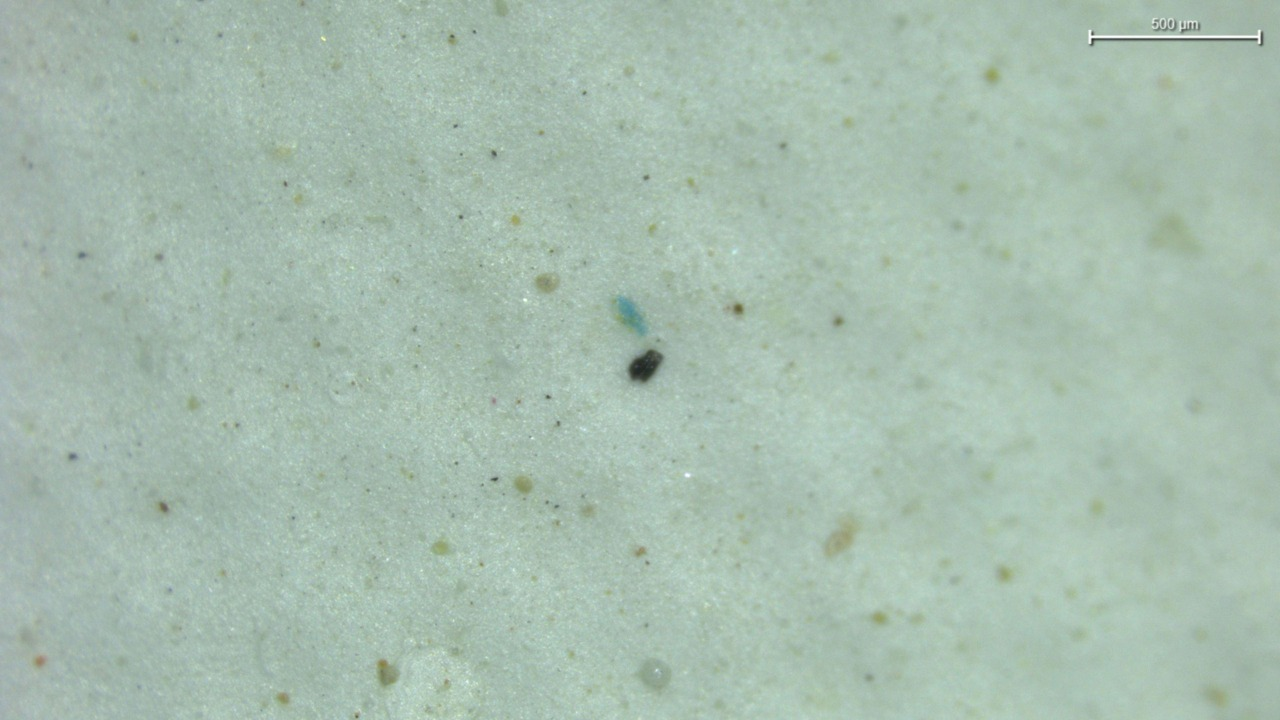microplastic_fragment: (616, 296, 647, 336), (628, 349, 663, 381)
